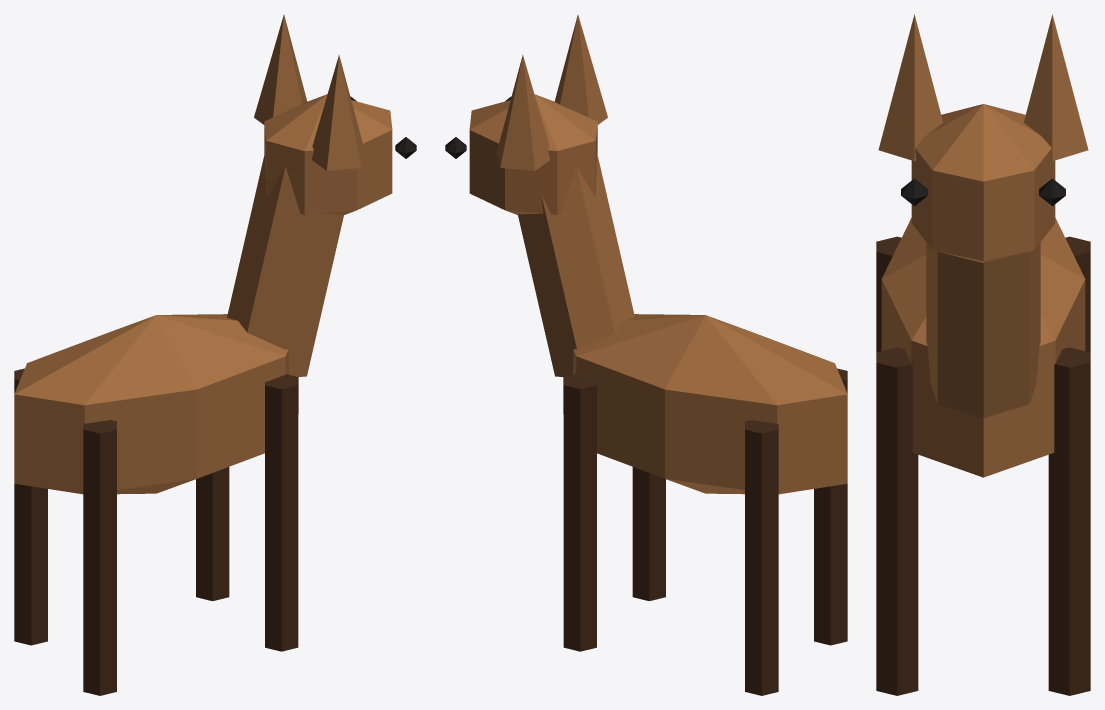
Rendered from deer.obj.
The picture shows the model from 3 angles, left to right: view 1: azimuth 30°, elevation 25°; view 2: azimuth 150°, elevation 25°; view 3: azimuth 270°, elevation 25°; orthographic projection. The views are drawn at different scales.
Bounding box in the file's own units: 1.58 × 2.28 × 0.6212.
3 materials, 3 textured.
